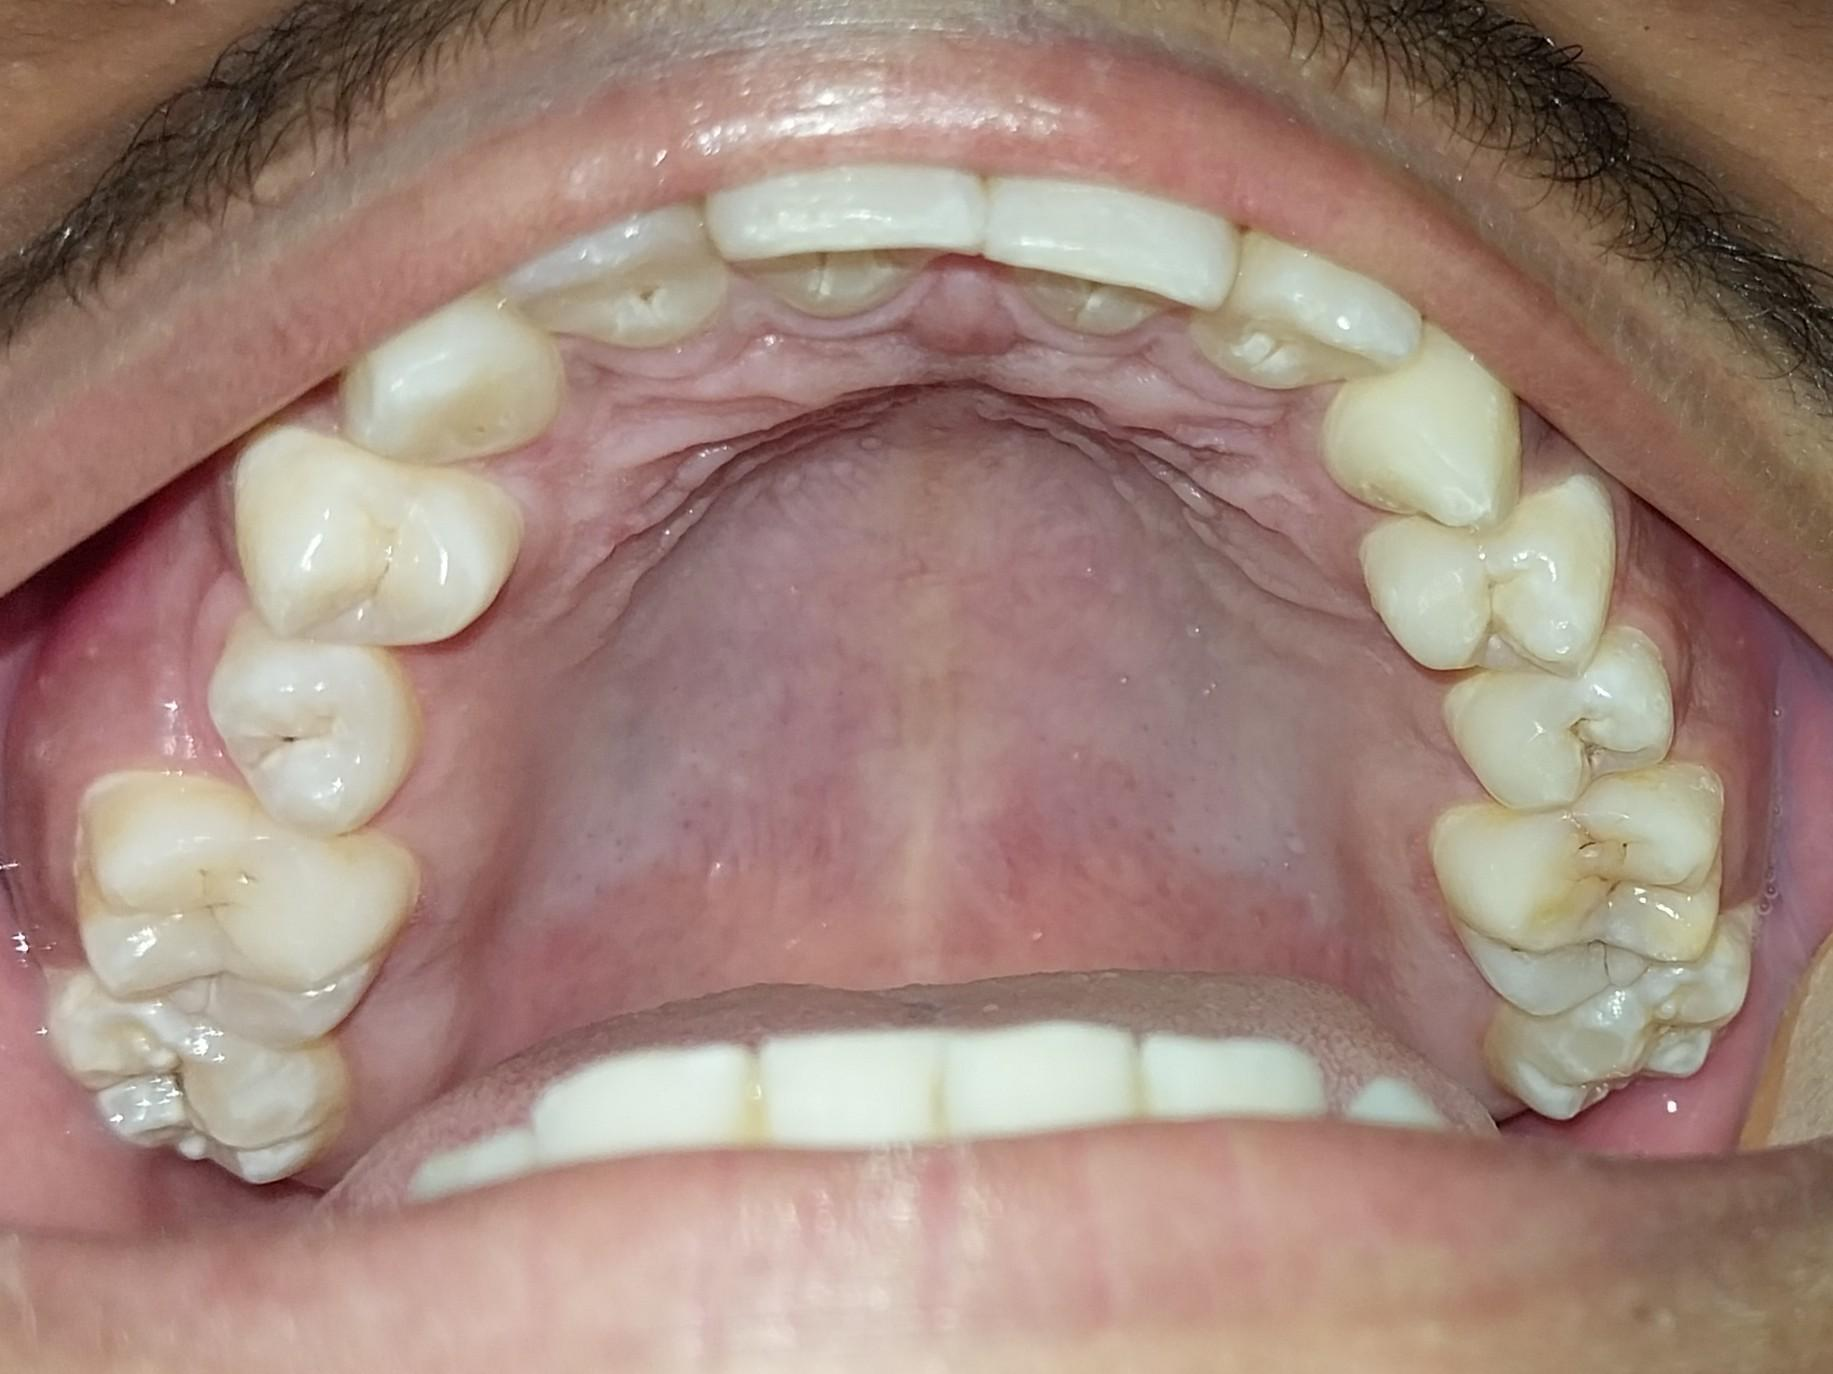D: (207, 621, 418, 844), (1438, 646, 1674, 812)
